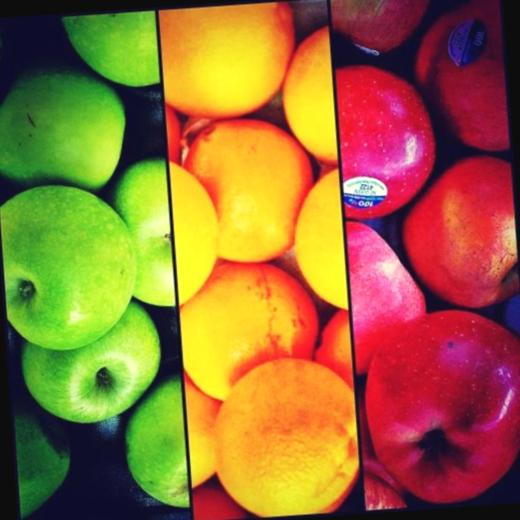Apple: (327, 0, 520, 512), (0, 6, 192, 520)
